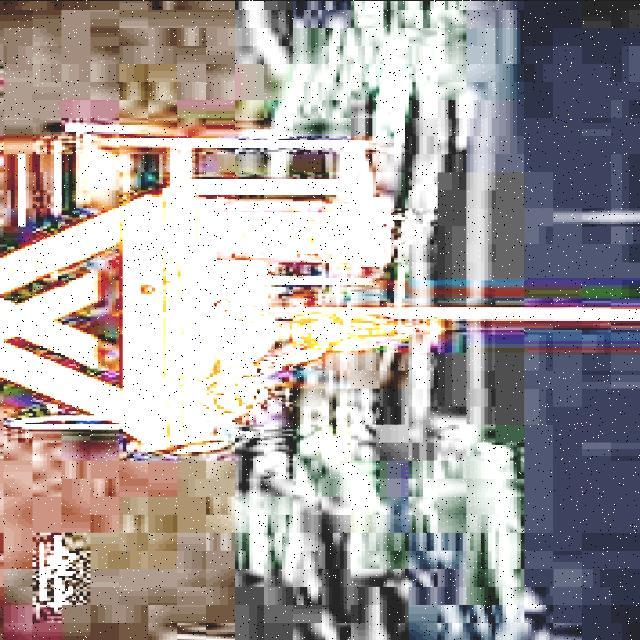api: (298, 217, 348, 247), (316, 321, 366, 346)
